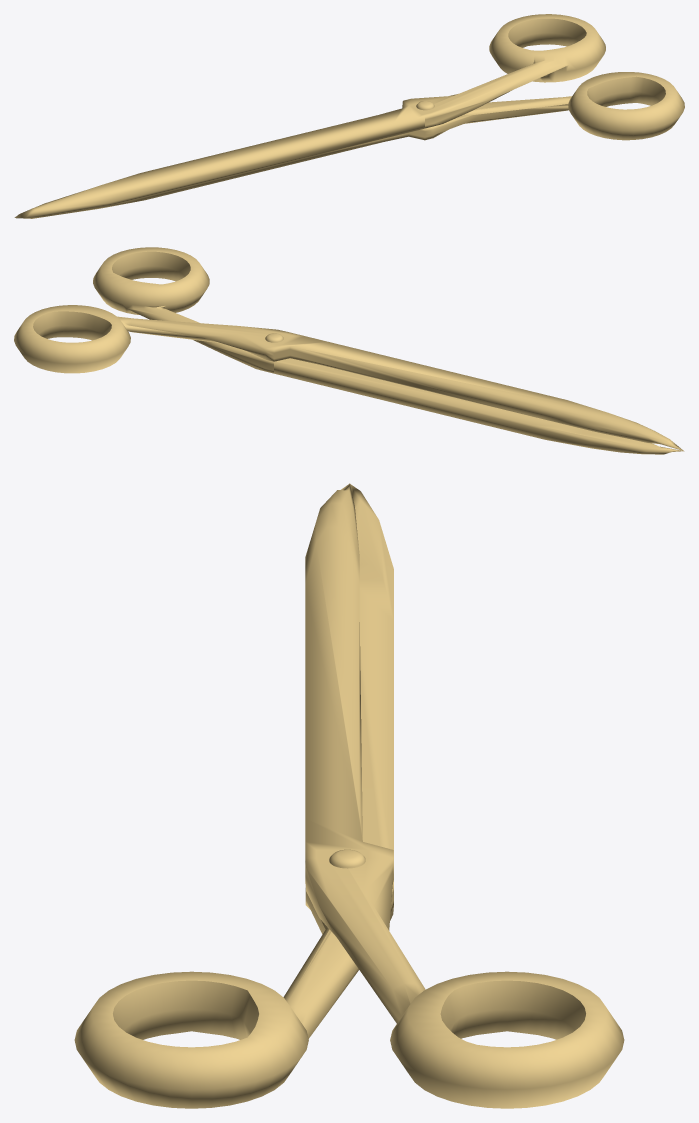
Rendered from scissor blades.fbx.
The picture shows the model from 3 angles, top to bottom: view 1: azimuth 30°, elevation 25°; view 2: azimuth 150°, elevation 25°; view 3: azimuth 270°, elevation 25°; orthographic projection. The views are drawn at different scales.
Visible parts, largest first — view 1: Blade, Blade.001; view 2: Blade, Blade.001; view 3: Blade, Blade.001.
Boxes of the visible parts, box(x1,y1,x2,y2) form: Blade: box(14, 14, 605, 217); Blade.001: box(16, 72, 684, 218); Blade: box(14, 305, 683, 450); Blade.001: box(93, 247, 683, 454); Blade: box(305, 484, 624, 1108); Blade.001: box(74, 483, 393, 1108).
Bounding box in the file's own units: 2125 × 97.59 × 811.
